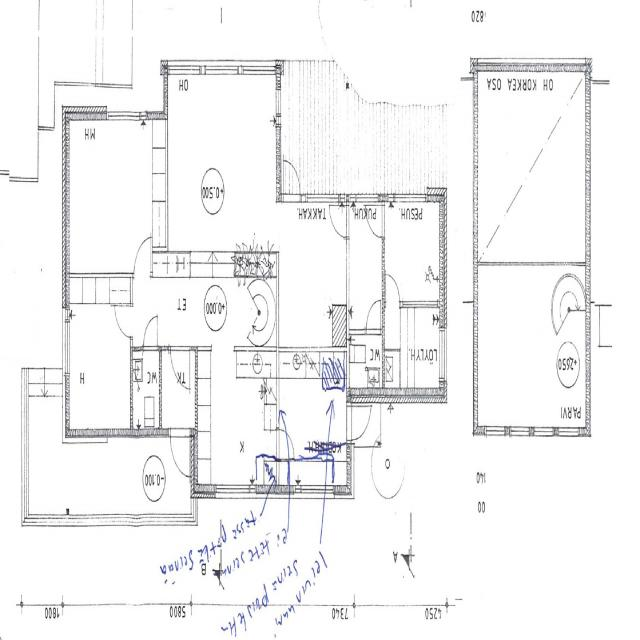door: (170, 428, 190, 474), (170, 346, 190, 391), (347, 406, 370, 439), (283, 160, 300, 202), (134, 240, 150, 278), (366, 206, 384, 237), (115, 306, 133, 336), (332, 206, 349, 236), (366, 300, 380, 334), (143, 319, 157, 352), (386, 274, 399, 307)
